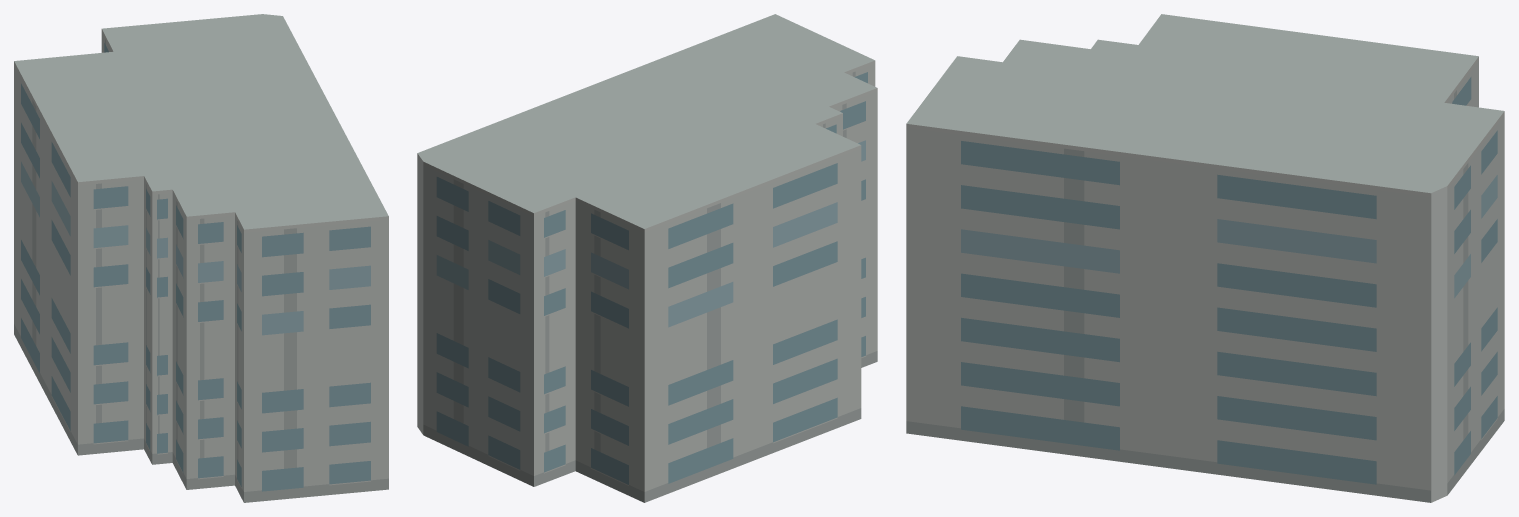
Rendered from survey-upis-32813221.glb.
The picture shows the model from 3 angles, left to right: view 1: azimuth 30°, elevation 25°; view 2: azimuth 150°, elevation 25°; view 3: azimuth 270°, elevation 25°; orthographic projection. The views are drawn at different scales.
Parts seen in each view (by area): view 1: survey-upis-32813221.tmp; view 2: survey-upis-32813221.tmp; view 3: survey-upis-32813221.tmp.
Part boxes in pixels (box(x1,y1,x2,y2)): survey-upis-32813221.tmp: box(14, 14, 388, 502); survey-upis-32813221.tmp: box(417, 14, 877, 502); survey-upis-32813221.tmp: box(906, 14, 1504, 502).
Bounding box in the file's own units: 23.96 × 19.3 × 33.8.
